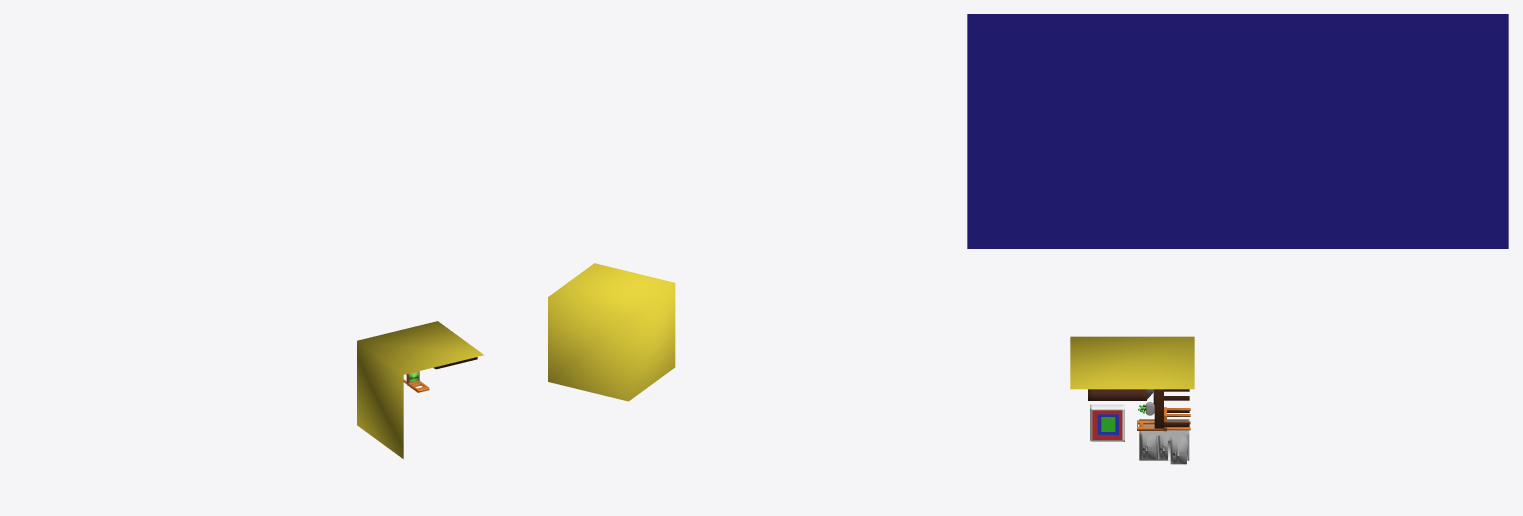
The model's file is IscoMetric_Room (1).glb.
The picture shows the model from 3 angles, left to right: view 1: azimuth 30°, elevation 25°; view 2: azimuth 150°, elevation 25°; view 3: azimuth 270°, elevation 25°; orthographic projection. The views are drawn at different scales.
Visible parts, largest first — view 1: Cube; view 2: Cube; view 3: Plane, Cube, Cube.008, Cube.001, Cube.002_1.
Part boxes in pixels (left/top/right/bottom): Cube: left=357, top=321, right=484, bottom=458; Cube: left=548, top=263, right=675, bottom=401; Plane: left=967, top=14, right=1508, bottom=248; Cube: left=1070, top=336, right=1194, bottom=389; Cube.008: left=1139, top=419, right=1189, bottom=464; Cube.001: left=1154, top=389, right=1189, bottom=428; Cube.002_1: left=1088, top=389, right=1146, bottom=400.
Size of the model in its own units: 9.29 by 9.46 by 10.69.
